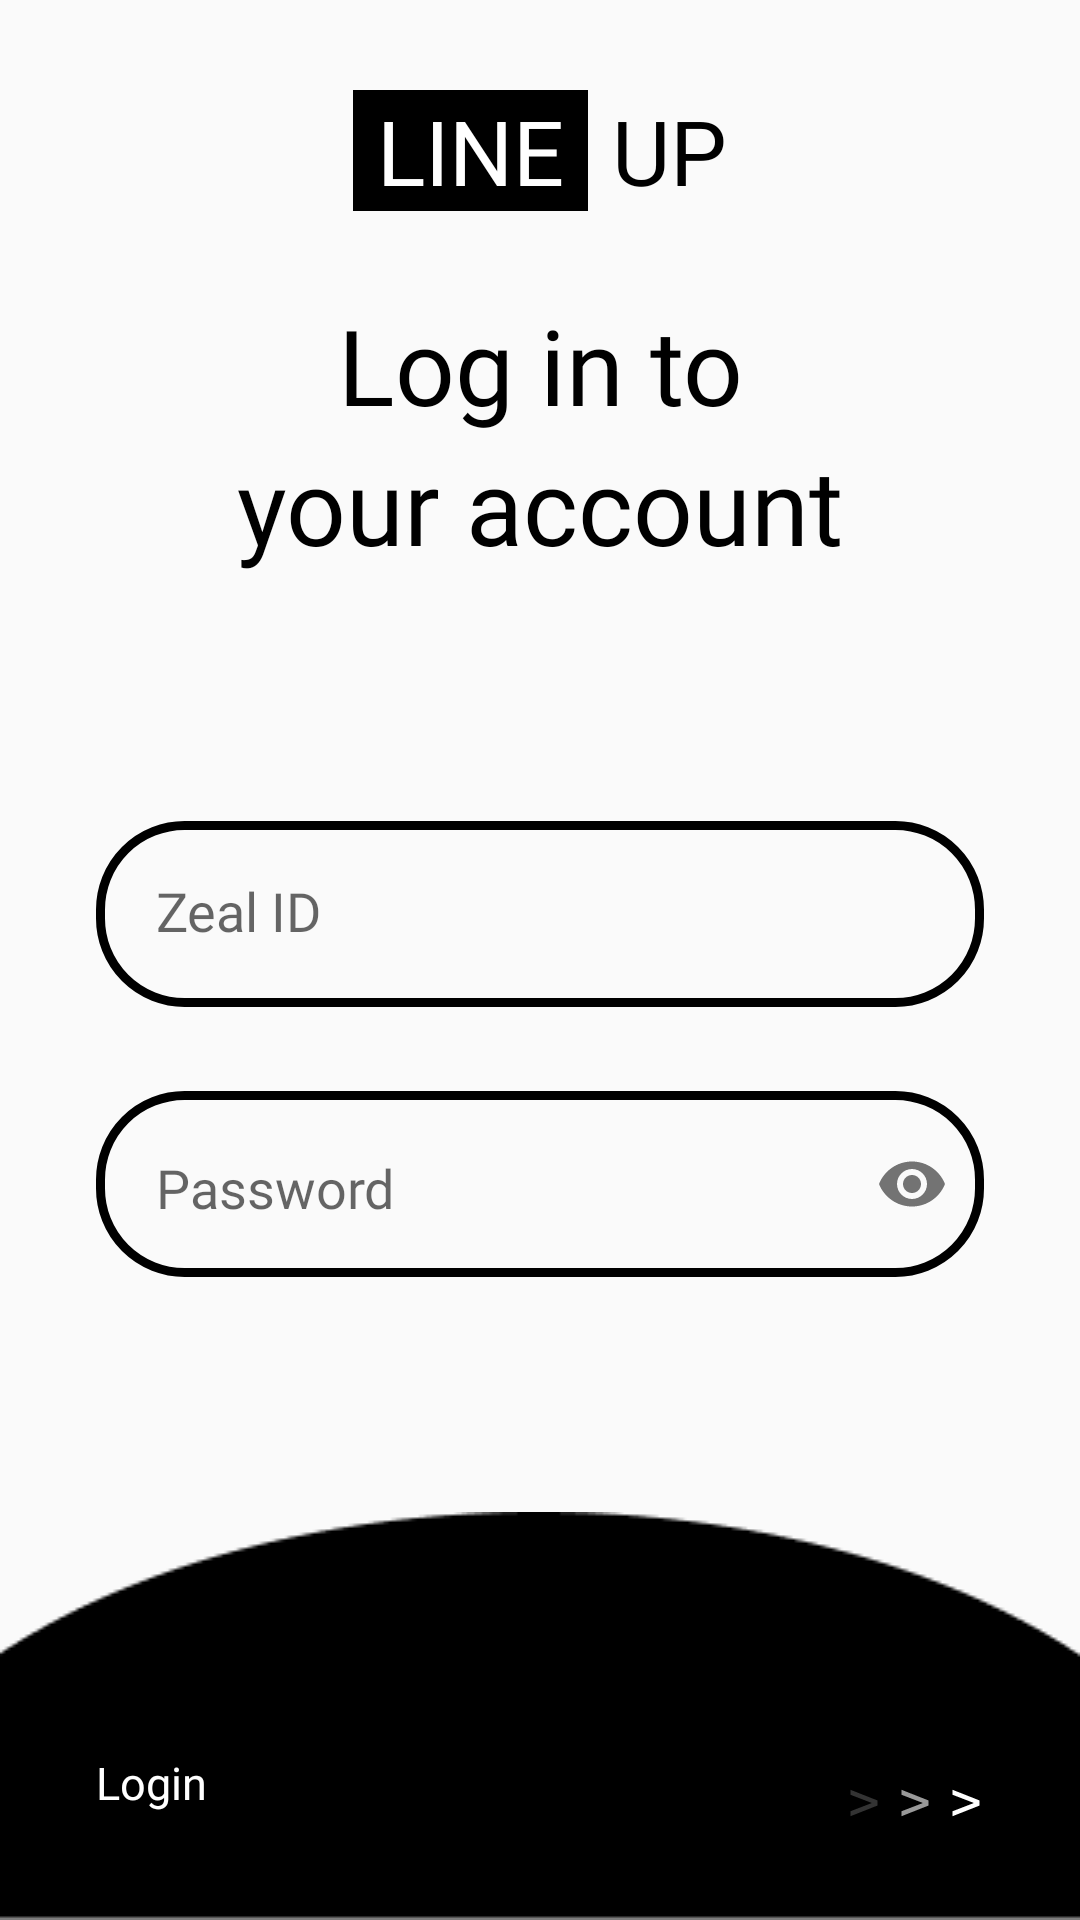

Locate icon controls on the screen. Image size 1080px×1920px, boxes as (x1, y1, x2, y2).
next arrow: (850, 1790, 980, 1816)
